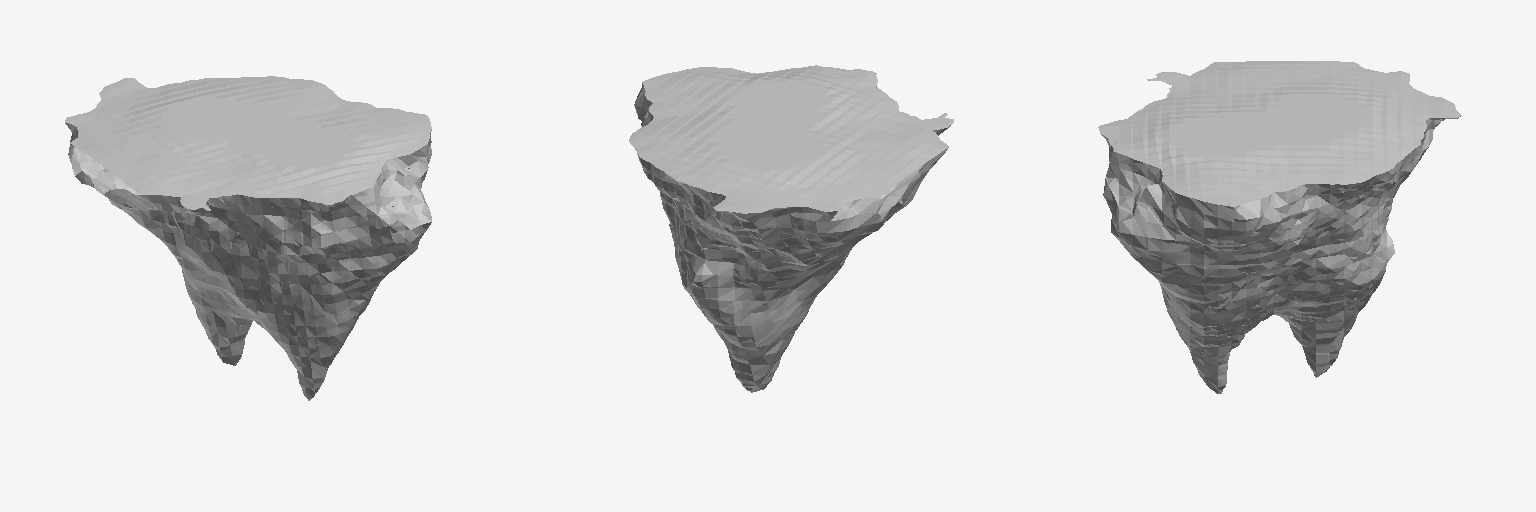
Rendered from IslandMisc_03.obj.
3 views of the same model, side by side, from view 1: azimuth 30°, elevation 25°; view 2: azimuth 150°, elevation 25°; view 3: azimuth 270°, elevation 25° (orthographic).
Parts seen in each view (by area): view 1: IslandMisc_03; view 2: IslandMisc_03; view 3: IslandMisc_03.
Part boxes in pixels (left/top/right/bottom): IslandMisc_03: left=65, top=76, right=431, bottom=400; IslandMisc_03: left=629, top=65, right=953, bottom=392; IslandMisc_03: left=1098, top=61, right=1461, bottom=393.
Size of the model in its own units: 24.39 by 20.06 by 25.83.